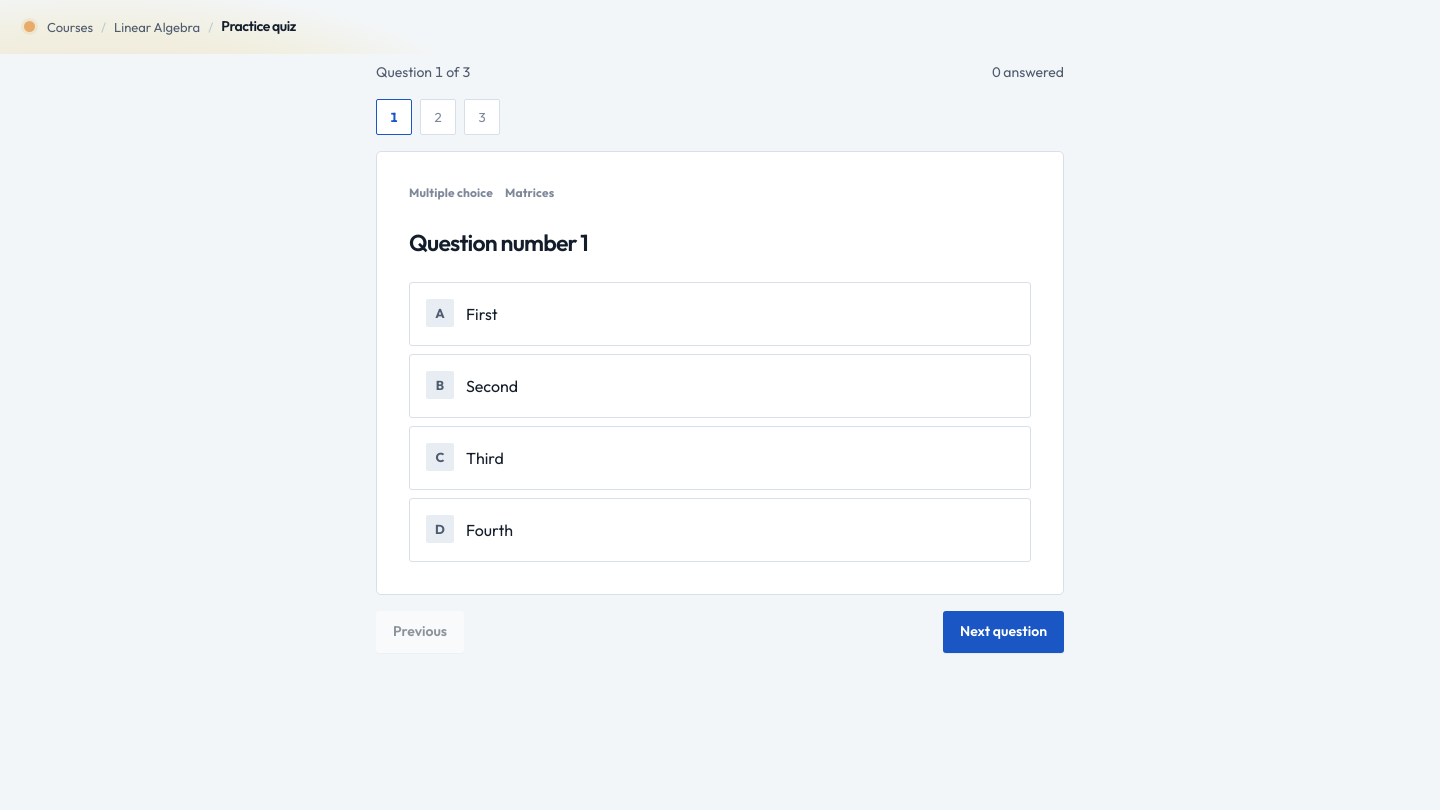
answering an ordinary practice quiz › warns about unanswered questions before handing in
The image size is (1440, 810).
Expected: the radio button labelled "First" is shown, [409,282,1031,346]
Click the button "Next question": (1004, 632) [943,611,1064,653]
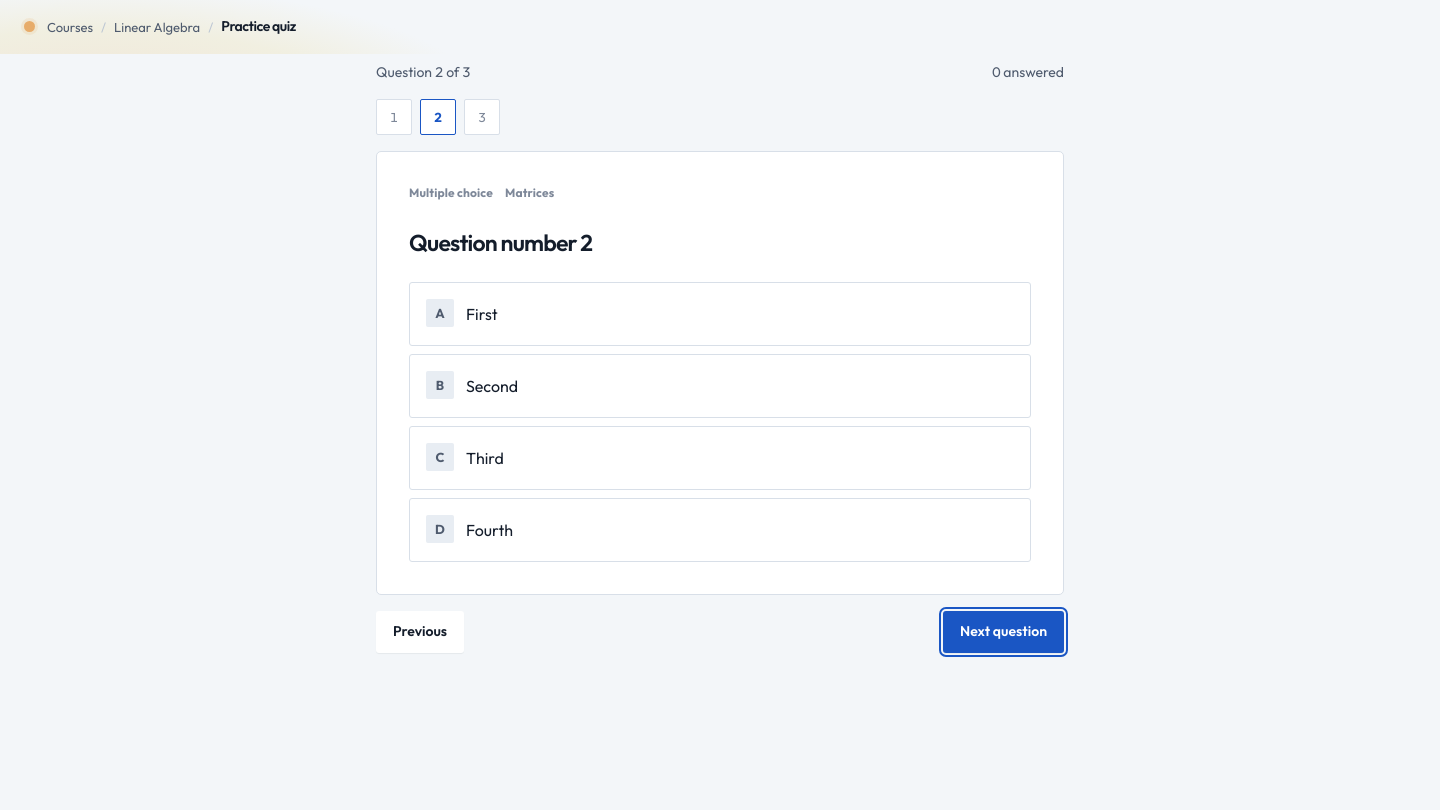
Click the button "Next question": (1004, 632) [943,611,1064,653]
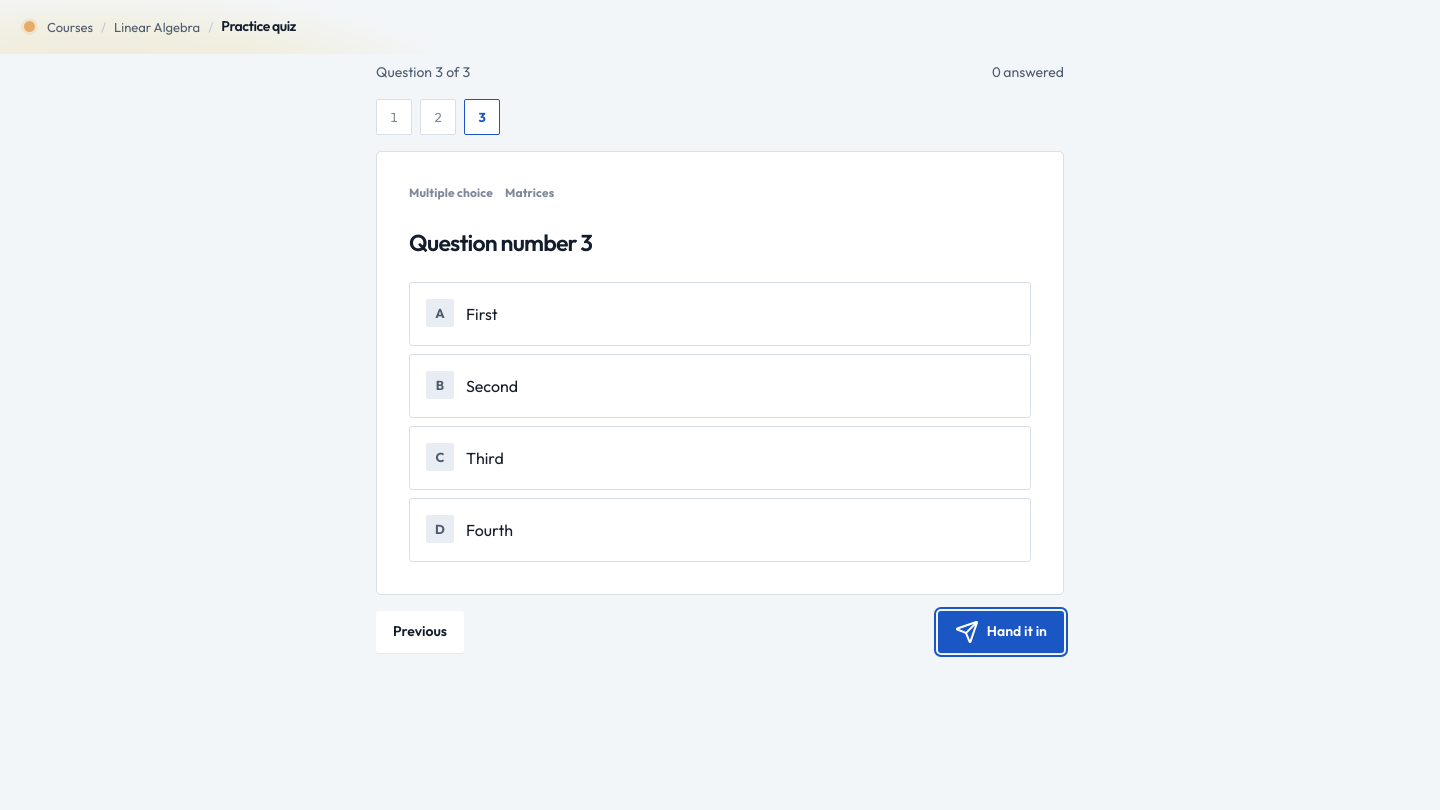
Click the button "Hand it in": (1001, 632) [938,611,1064,653]
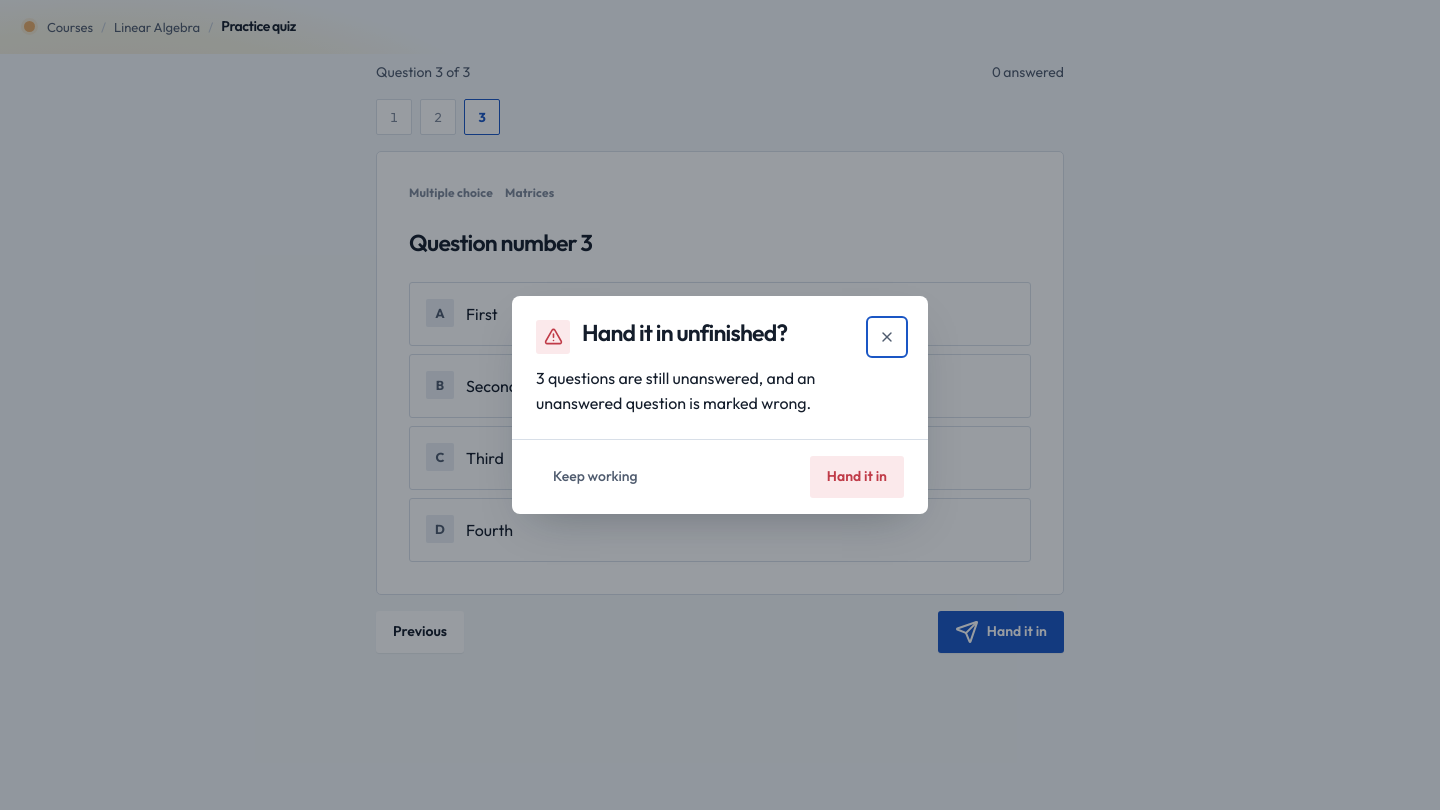
Now the text "3 questions are still unanswered" is shown, box [536,368,815,412]
